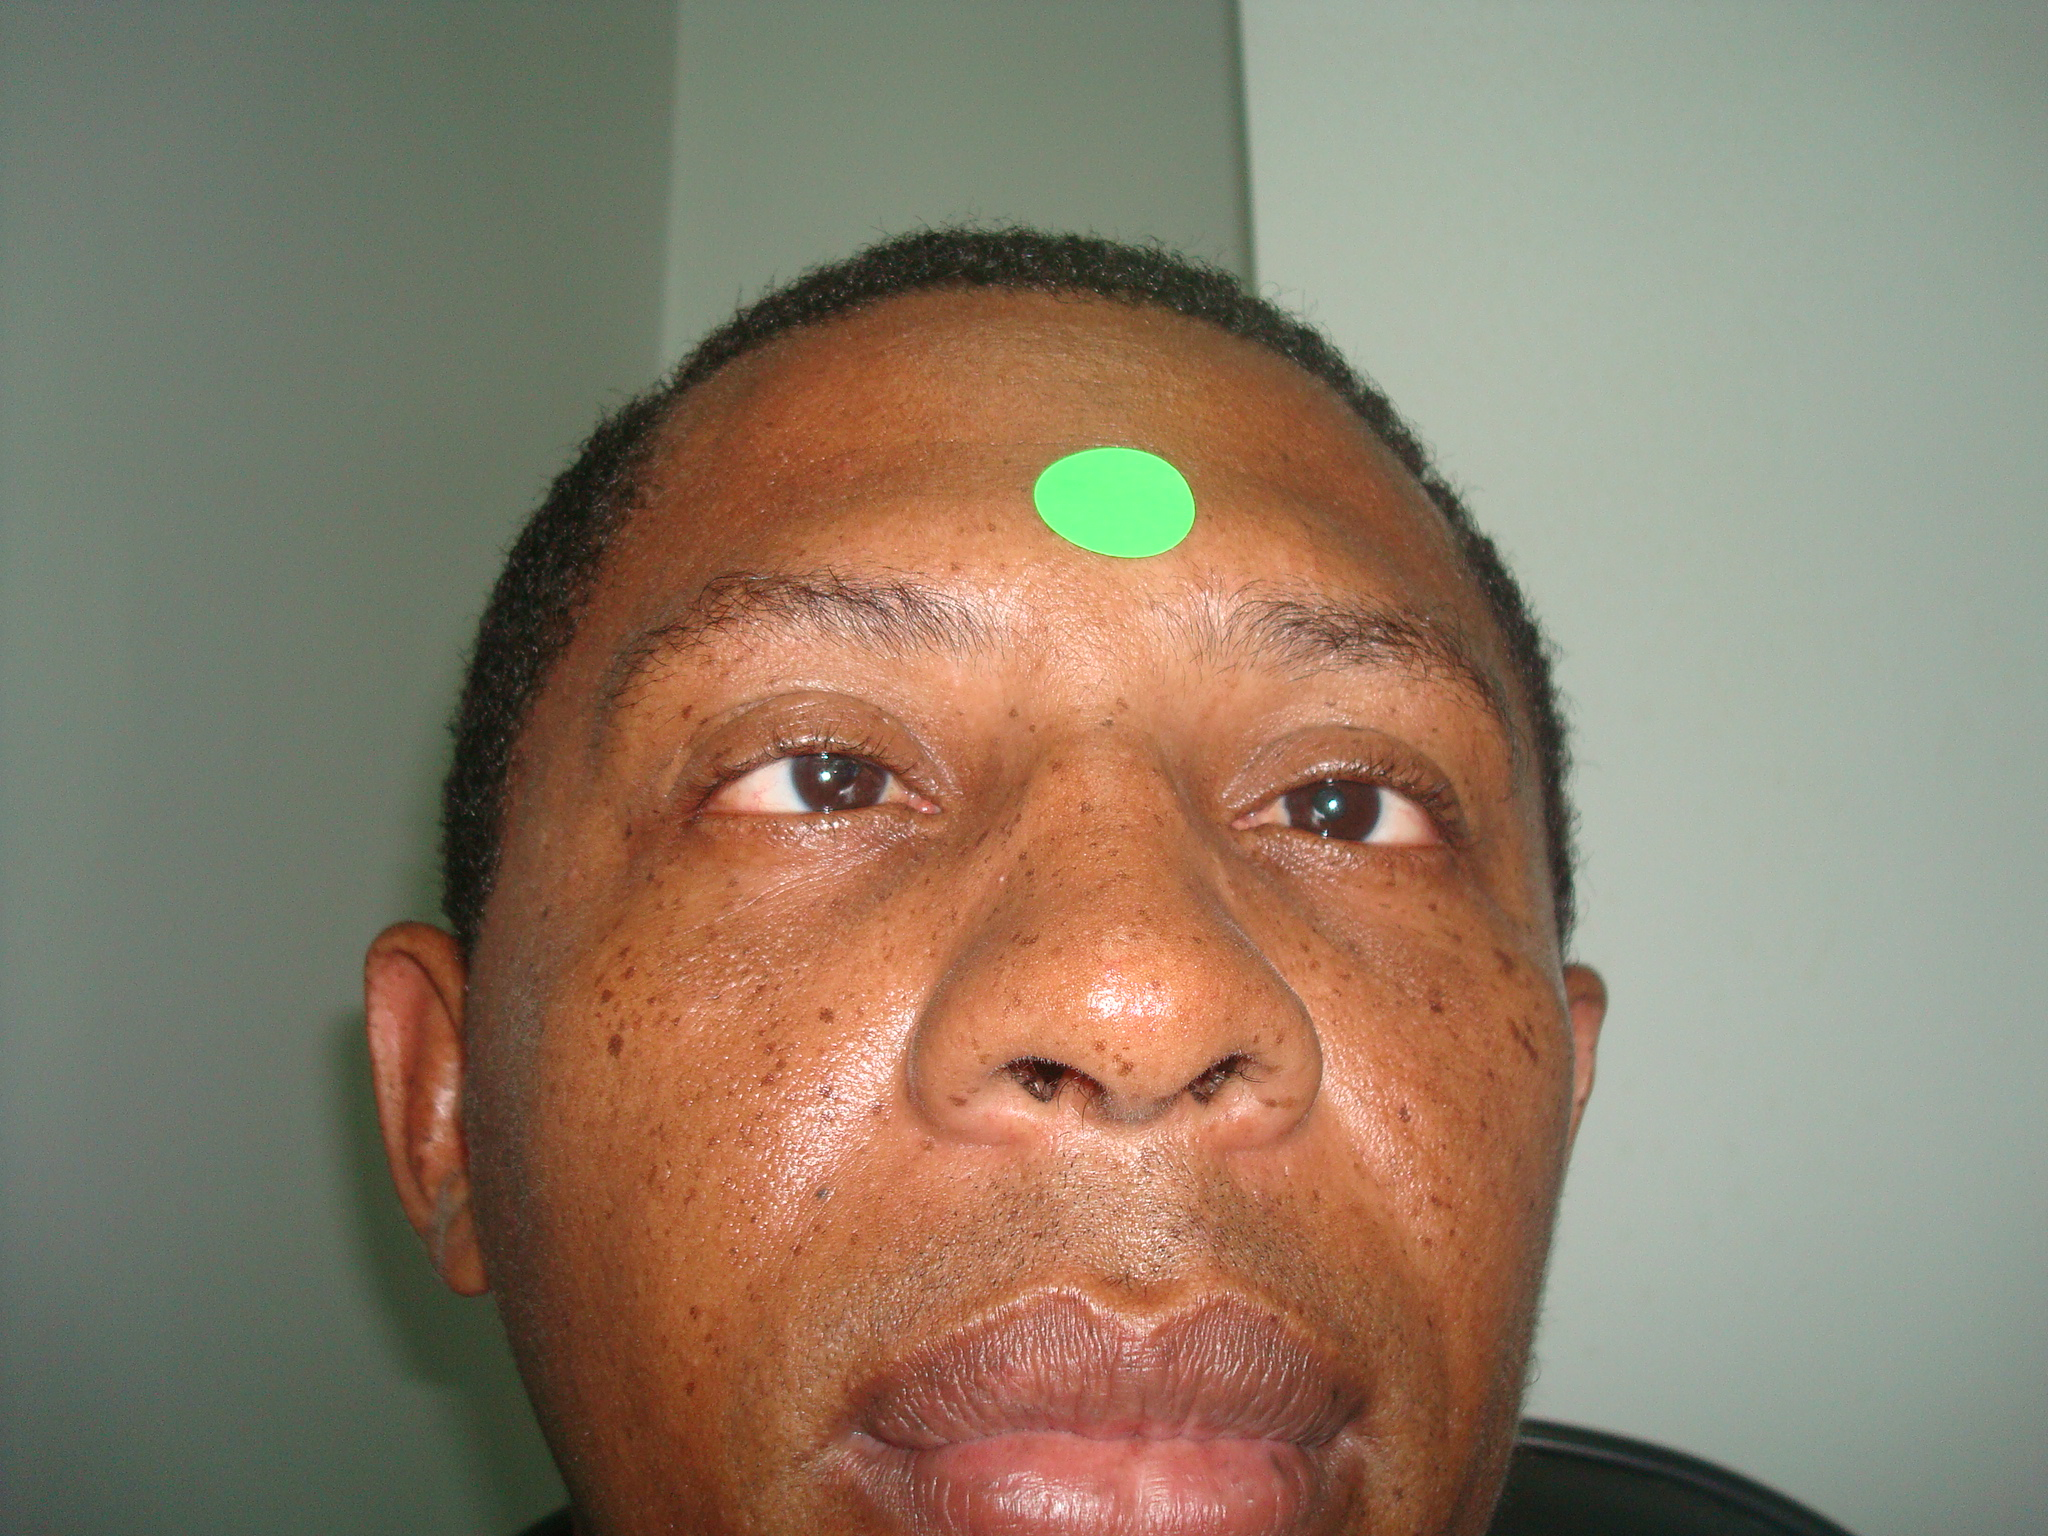flash: (818, 768, 834, 784), (1326, 797, 1340, 812)
limbo: (1280, 768, 1376, 839), (801, 731, 885, 810)
